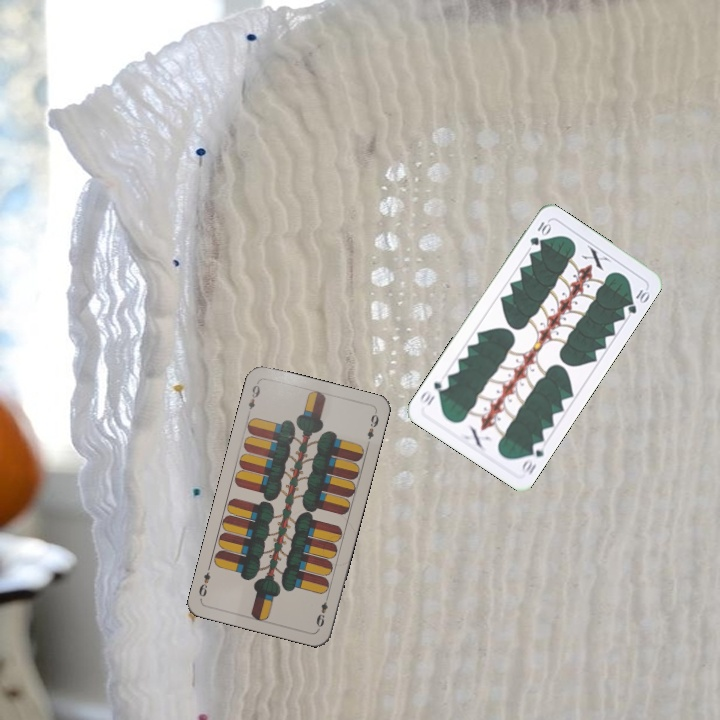E9: (312, 591, 331, 631), (244, 381, 263, 412)
G10: (517, 438, 548, 477), (526, 217, 553, 248)
